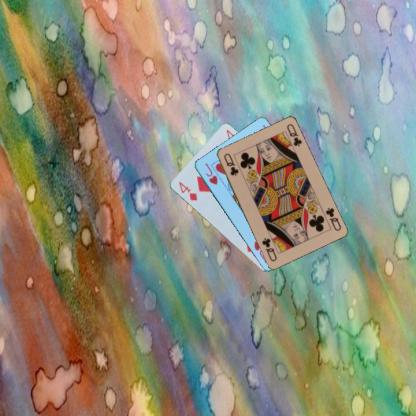4d: (176, 179, 198, 202)
Jh: (202, 160, 218, 186)
Qc: (322, 205, 342, 233), (221, 151, 240, 177)
